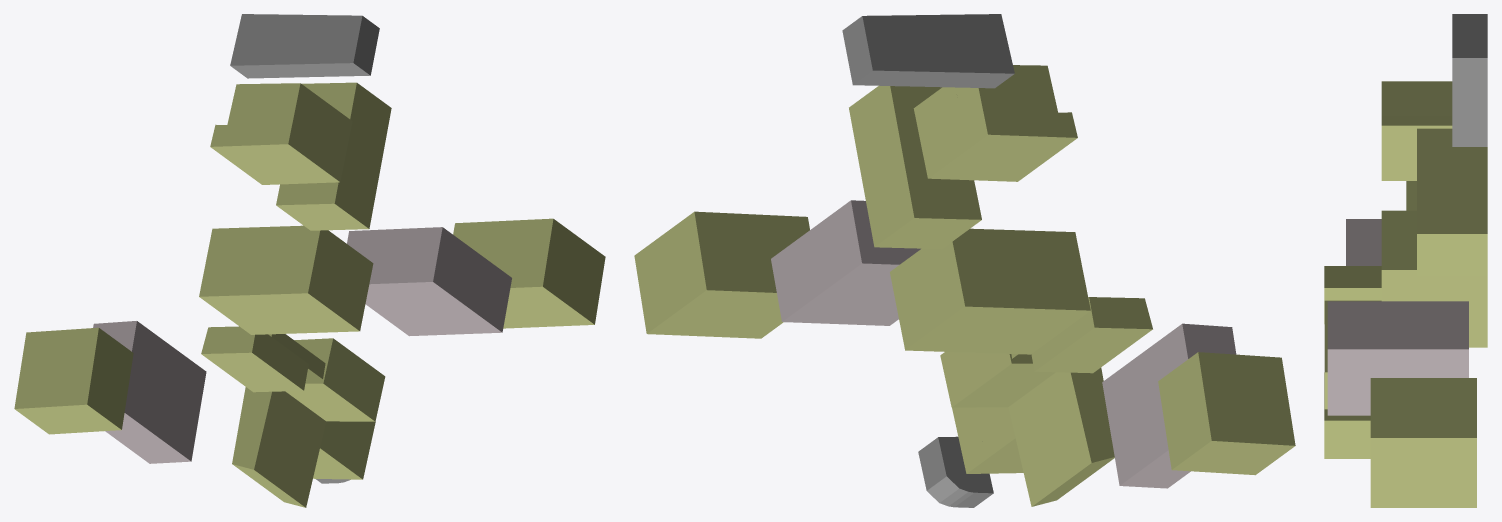
3 renders of one model, left to right at view 1: azimuth 30°, elevation 25°; view 2: azimuth 150°, elevation 25°; view 3: azimuth 270°, elevation 25°, orthographic. The views are drawn at different scales.
Parts seen in each view (by area): view 1: 0_1_2_0_3_3_2_1_0; view 2: 0_1_2_0_3_3_2_1_0; view 3: 0_1_2_0_3_3_2_1_0.
Part boxes in pixels (x1=…): 0_1_2_0_3_3_2_1_0: x1=14, y1=14, x2=605, y2=507; 0_1_2_0_3_3_2_1_0: x1=634, y1=14, x2=1295, y2=507; 0_1_2_0_3_3_2_1_0: x1=1324, y1=14, x2=1487, y2=507.
Size of the model in its own units: 53.74 by 42.77 by 13.85.
